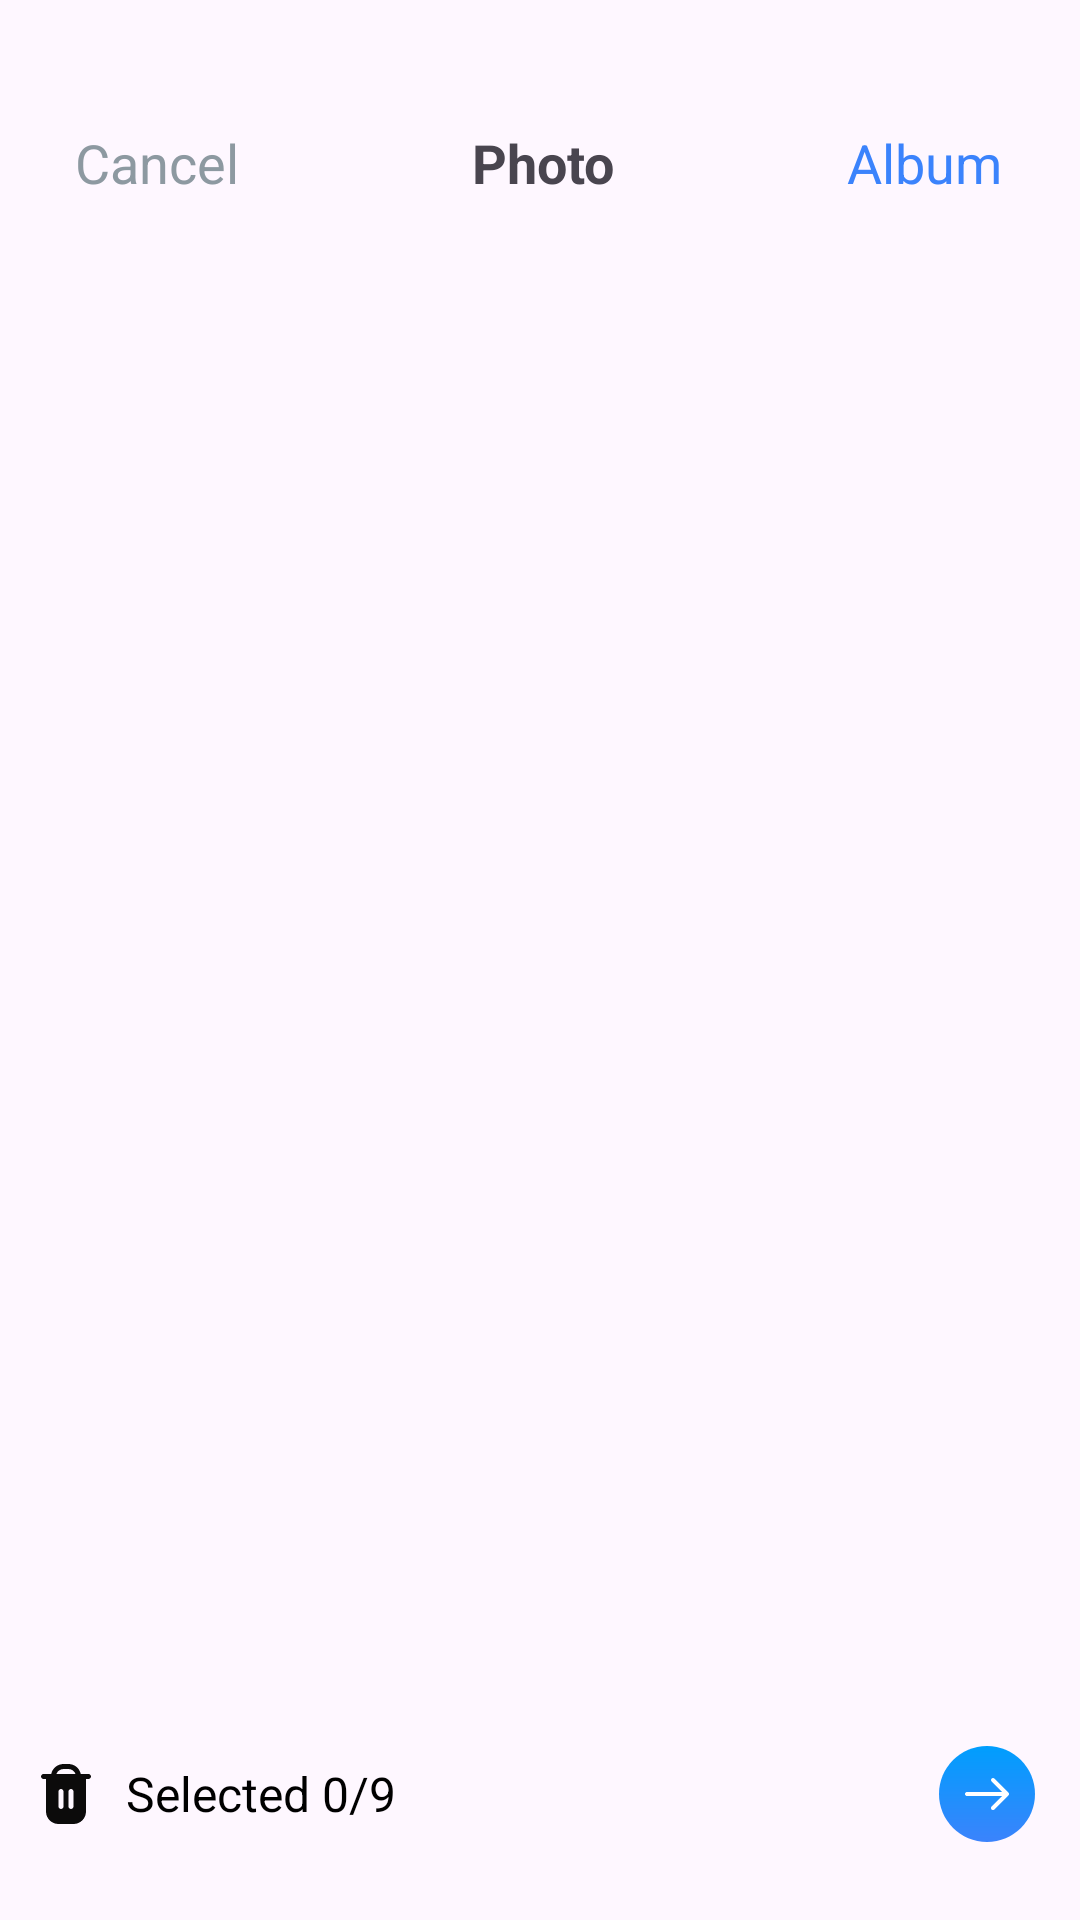

Named icons in this screenshot (1080 × 1920) and their bounding boxes, [x1,y1,x2,y2]:
nextbtn: [939,1746,1035,1842]
trash: [41,1764,91,1824]
